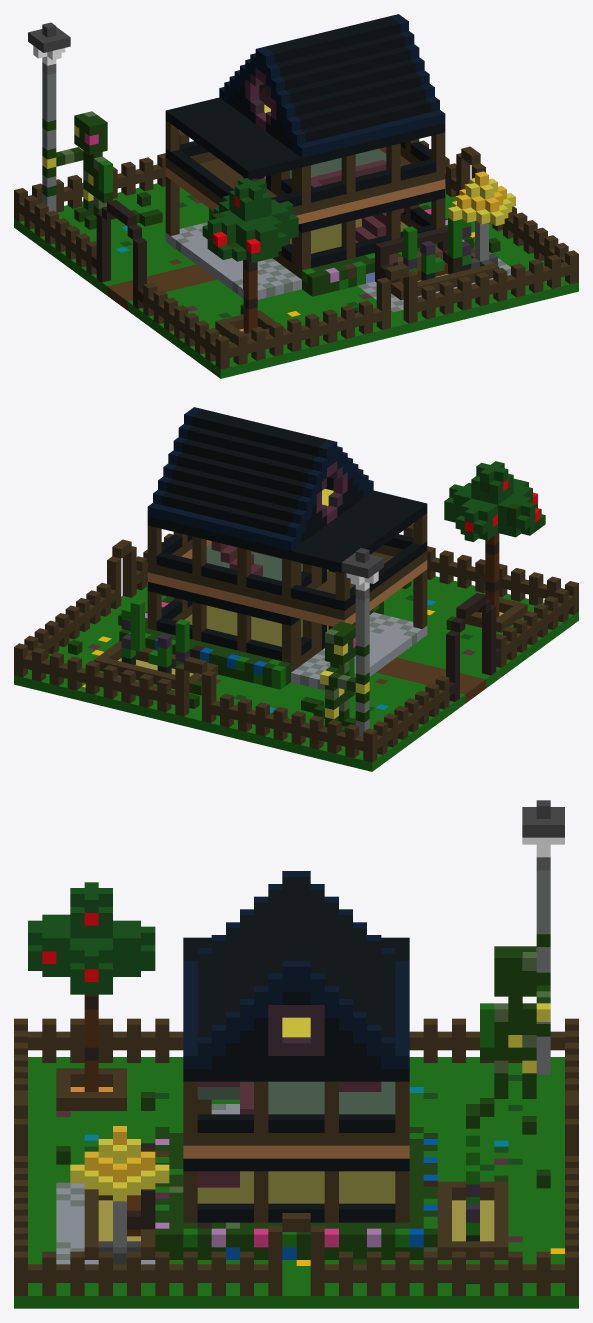
Rendered from house.glb.
The picture shows the model from 3 angles, top to bottom: view 1: azimuth 30°, elevation 25°; view 2: azimuth 150°, elevation 25°; view 3: azimuth 270°, elevation 25°; orthographic projection. The views are drawn at different scales.
Visible parts, largest first — view 1: Object_4; view 2: Object_4; view 3: Object_4.
Part boxes in pixels (box(x1,y1,x2,y2)): Object_4: box(14, 14, 578, 378); Object_4: box(14, 407, 578, 771); Object_4: box(14, 800, 578, 1308).
Size of the model in its own units: 4 by 2.3 by 4.
1 material, 1 textured.
